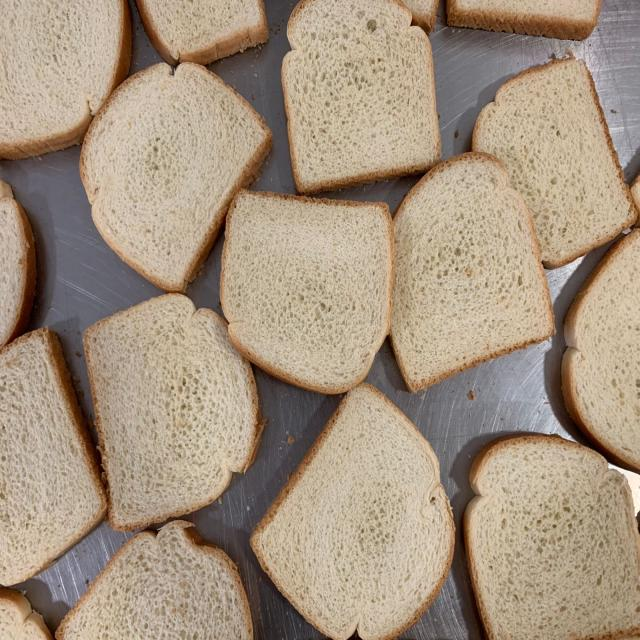sliced_bread: (250, 383, 455, 640), (81, 61, 273, 293), (85, 293, 262, 529), (391, 153, 556, 392), (463, 432, 640, 640), (472, 58, 638, 270), (220, 191, 394, 393), (280, 0, 441, 194)
